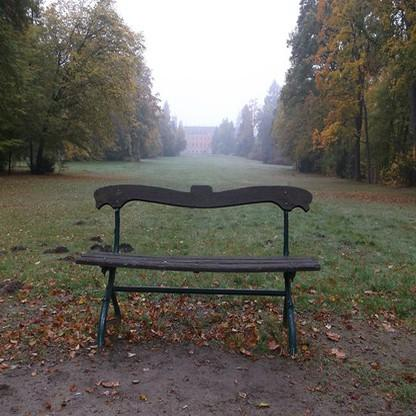obstacle: (74, 176, 329, 356)
